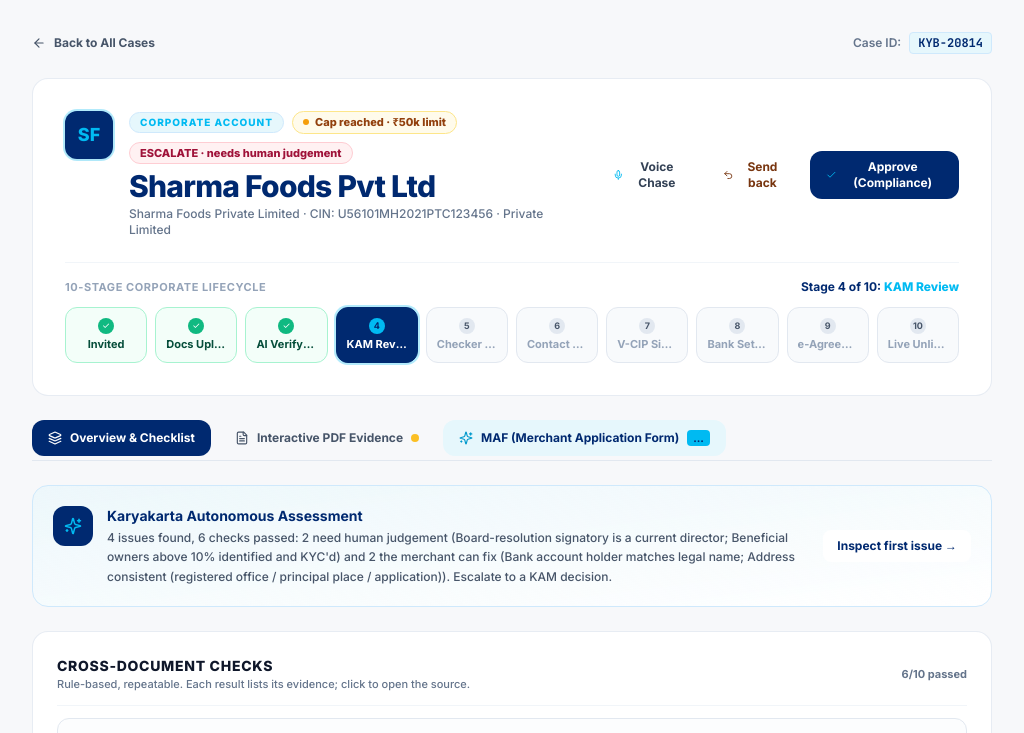
Test: Case overview (live case) › shows checker actions for the Compliance persona and reports a failed action
What coordinates should you click on to do the following:
click the button "Send back"
I would click on:
 (754, 174)
Its box is x1=709 y1=150 x2=800 y2=198.
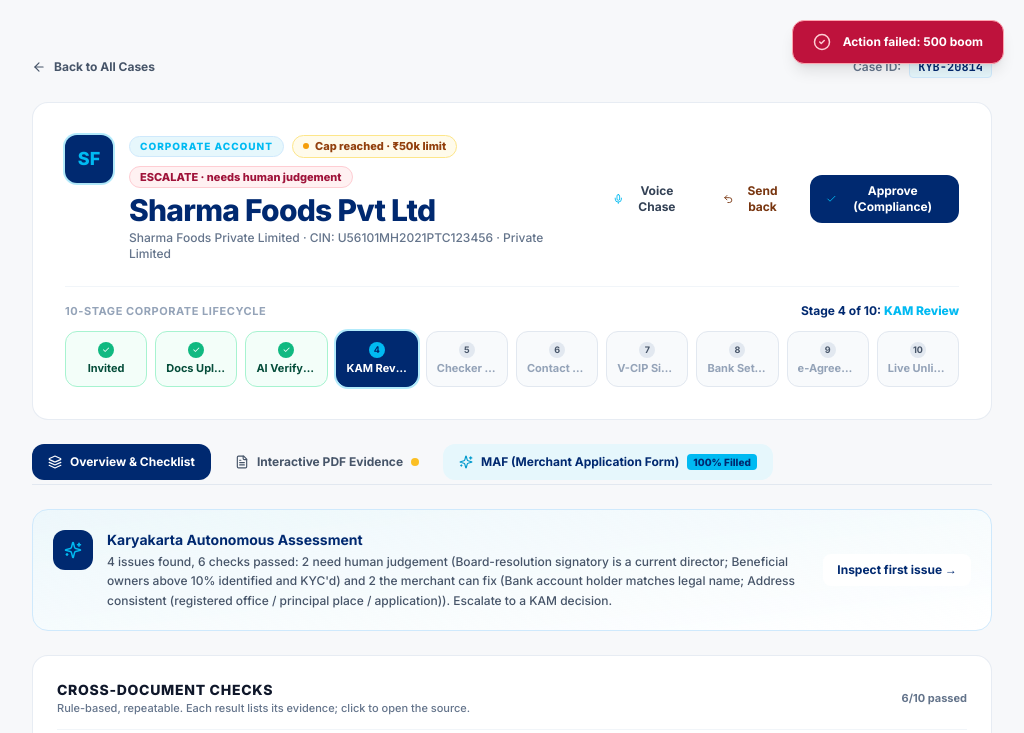
Result: the text "Action failed: 500 boom" is shown at x1=843 y1=34 x2=983 y2=50
